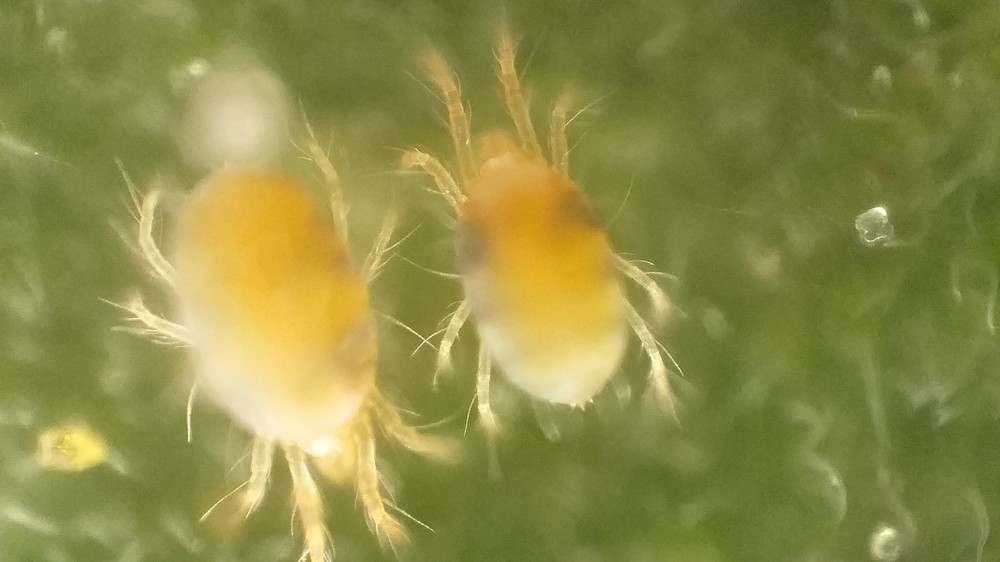Aracnido Rojo: (102, 123, 441, 561), (396, 32, 704, 475)
